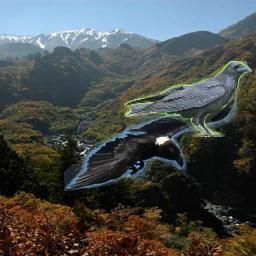Crow: (64, 90, 237, 191), (124, 61, 252, 137)
